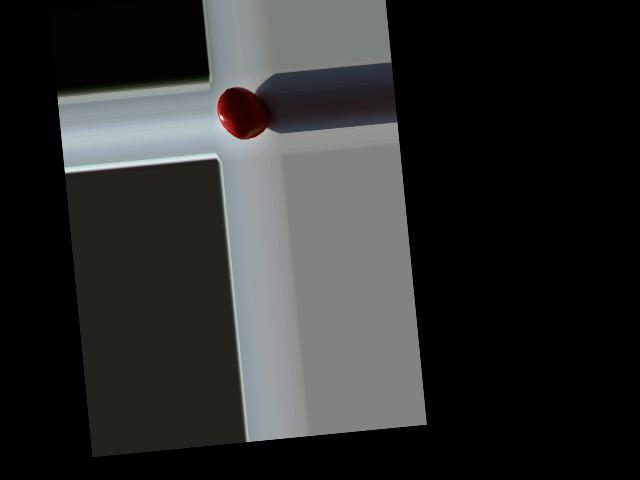tomato: (215, 84, 270, 141)
